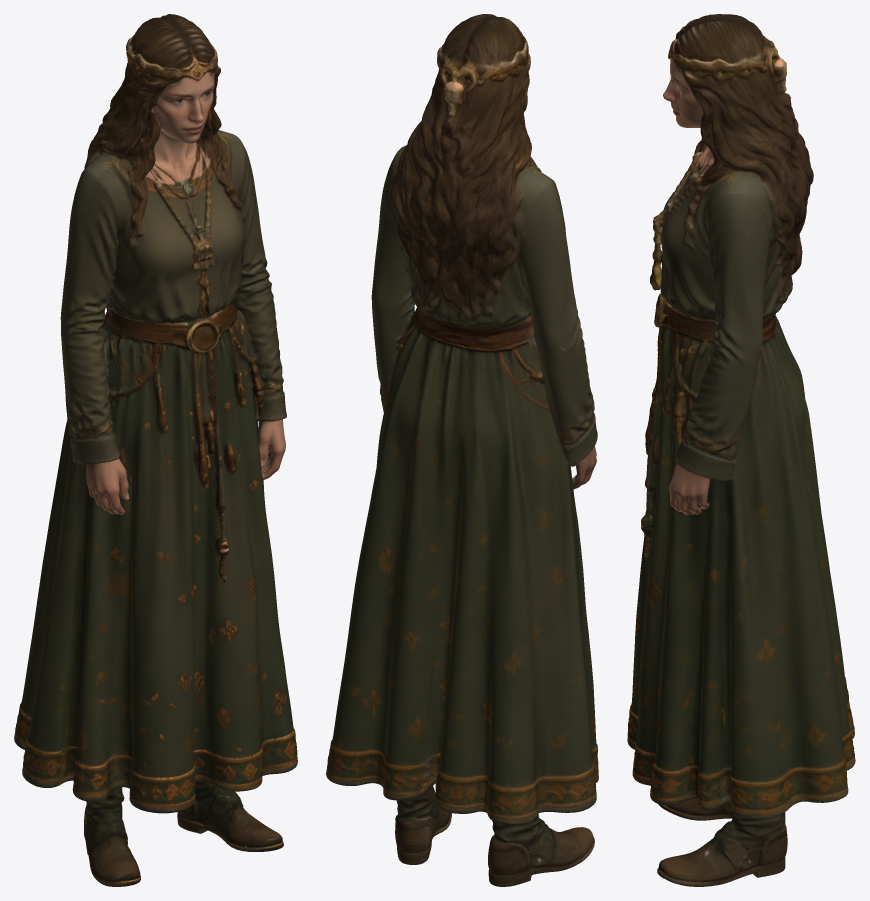
File: Green Gown Lady.glb
The picture shows the model from 3 angles, left to right: view 1: azimuth 30°, elevation 25°; view 2: azimuth 150°, elevation 25°; view 3: azimuth 270°, elevation 25°; orthographic projection.
Visible parts, largest first — view 1: Mesh_0.001; view 2: Mesh_0.001; view 3: Mesh_0.001.
Part boxes in pixels (bbox=[...]): Mesh_0.001: bbox=[14, 14, 297, 886]; Mesh_0.001: bbox=[326, 14, 598, 886]; Mesh_0.001: bbox=[627, 14, 855, 886].
Bounding box in the file's own units: 0.6369 × 2 × 0.4992.
Materials: 1 (1 with a texture image).
